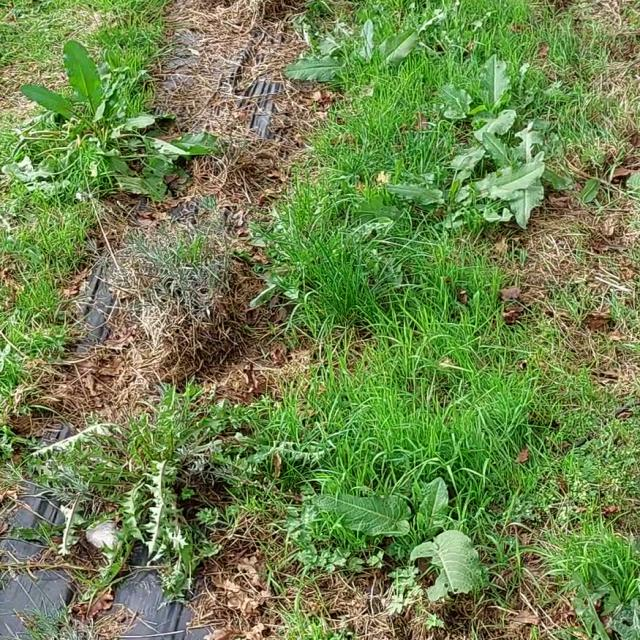organic waste: (24, 48, 225, 222), (321, 461, 512, 610), (359, 126, 577, 246), (279, 0, 459, 105), (429, 50, 576, 134)
